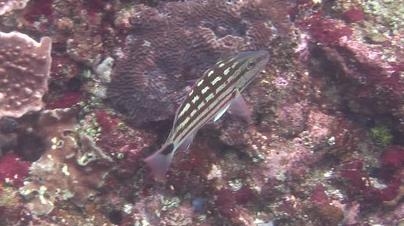Lutjanidae -Snappers-: (135, 41, 271, 188)
